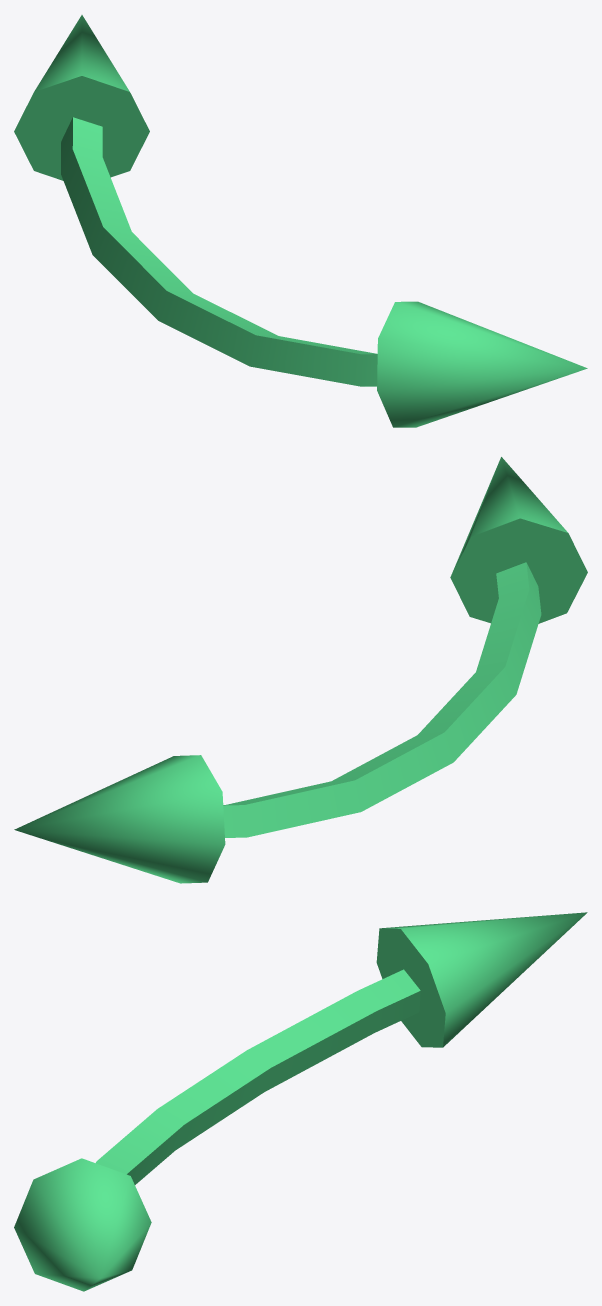
File: of2_arrow02.DAE
The picture shows the model from 3 angles, top to bottom: view 1: azimuth 30°, elevation 25°; view 2: azimuth 150°, elevation 25°; view 3: azimuth 330°, elevation 25°; orthographic projection.
Parts seen in each view (by area): view 1: Arrow02_PIVOT; view 2: Arrow02_PIVOT; view 3: Arrow02_PIVOT.
Boxes of the visible parts, <box> form: Arrow02_PIVOT: <box>14,15,587,427</box>; Arrow02_PIVOT: <box>14,457,587,883</box>; Arrow02_PIVOT: <box>14,912,587,1291</box>.
Bounding box in the file's own units: 9.75 × 43.47 × 6.09.
